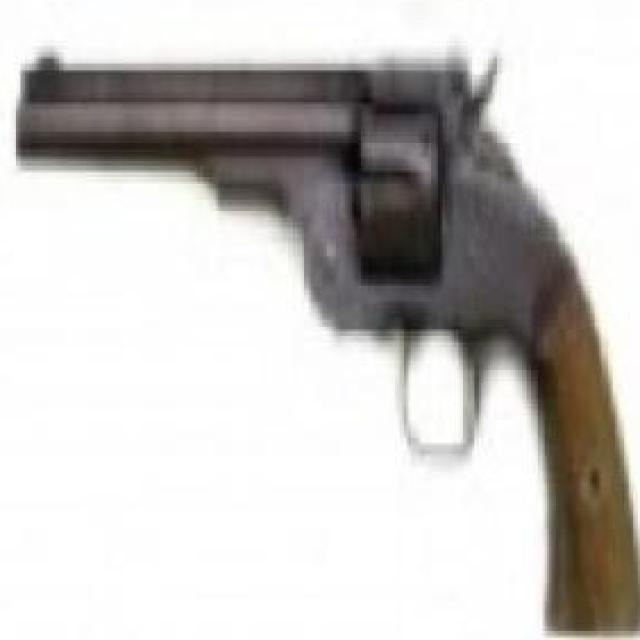pistol: (24, 48, 633, 615)
